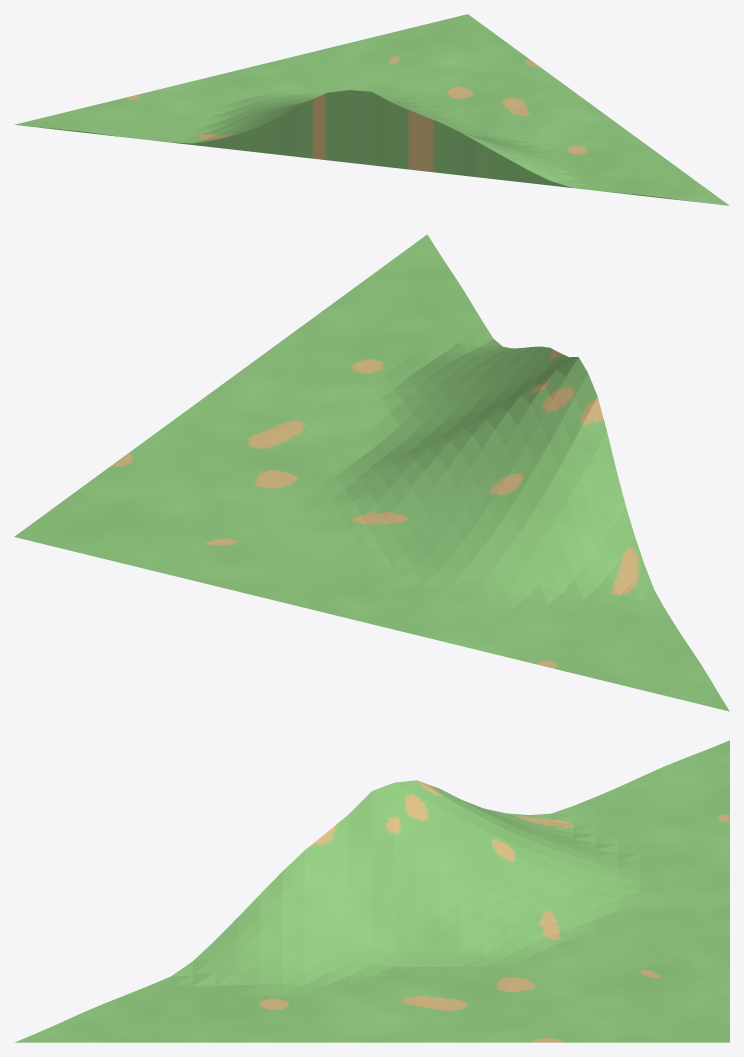
The model's file is Grass_Hills_10_SE.obj.
3 views of the same model, one above another, from view 1: azimuth 30°, elevation 25°; view 2: azimuth 150°, elevation 25°; view 3: azimuth 270°, elevation 25° (orthographic). The views are drawn at different scales.
Size of the model in its own units: 10 by 1.55 by 10.
1 material, 1 textured.
